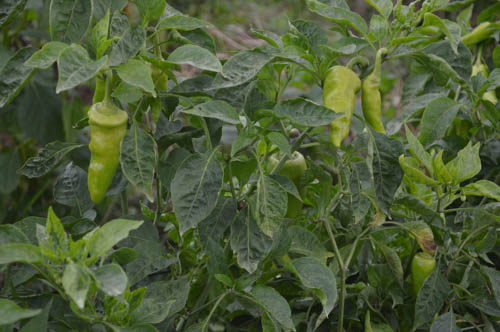ChiliPepper: (86, 103, 126, 208), (321, 63, 360, 154), (265, 150, 311, 215), (360, 76, 383, 133), (408, 254, 436, 293)
